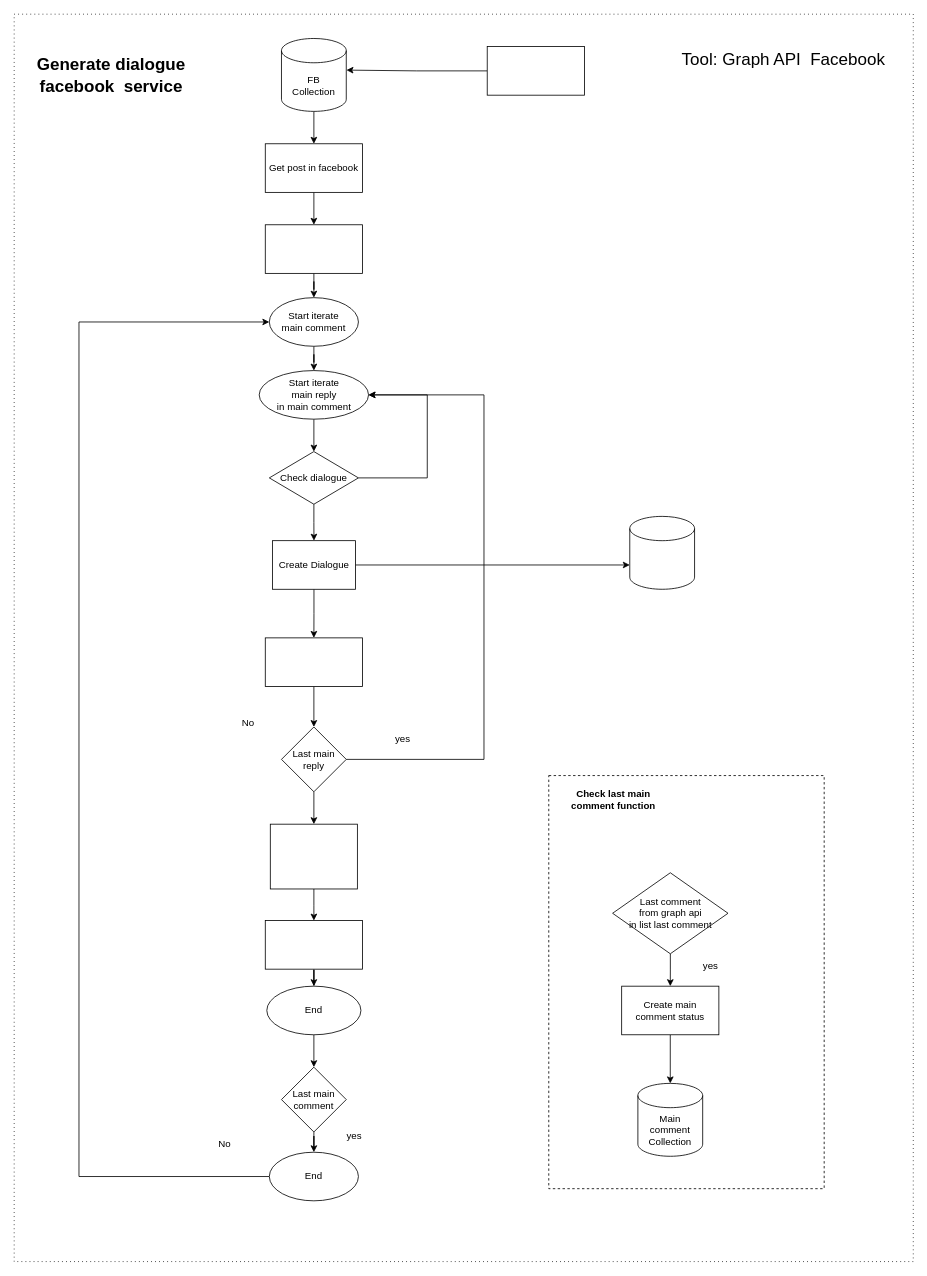
This 927x1276 diagram has some shape labels left out. Each missing label, with the box of its shape:
Append last comment in dialogue to list last comment: (264, 637, 362, 686)
Check last main comment: (264, 920, 362, 969)
Crawl data facebook service: (486, 46, 584, 95)
Dialgoue Collection: (629, 516, 695, 589)
Get last comment for main comment from graph api: (269, 823, 357, 889)
Get list comment on post: (264, 224, 362, 273)
